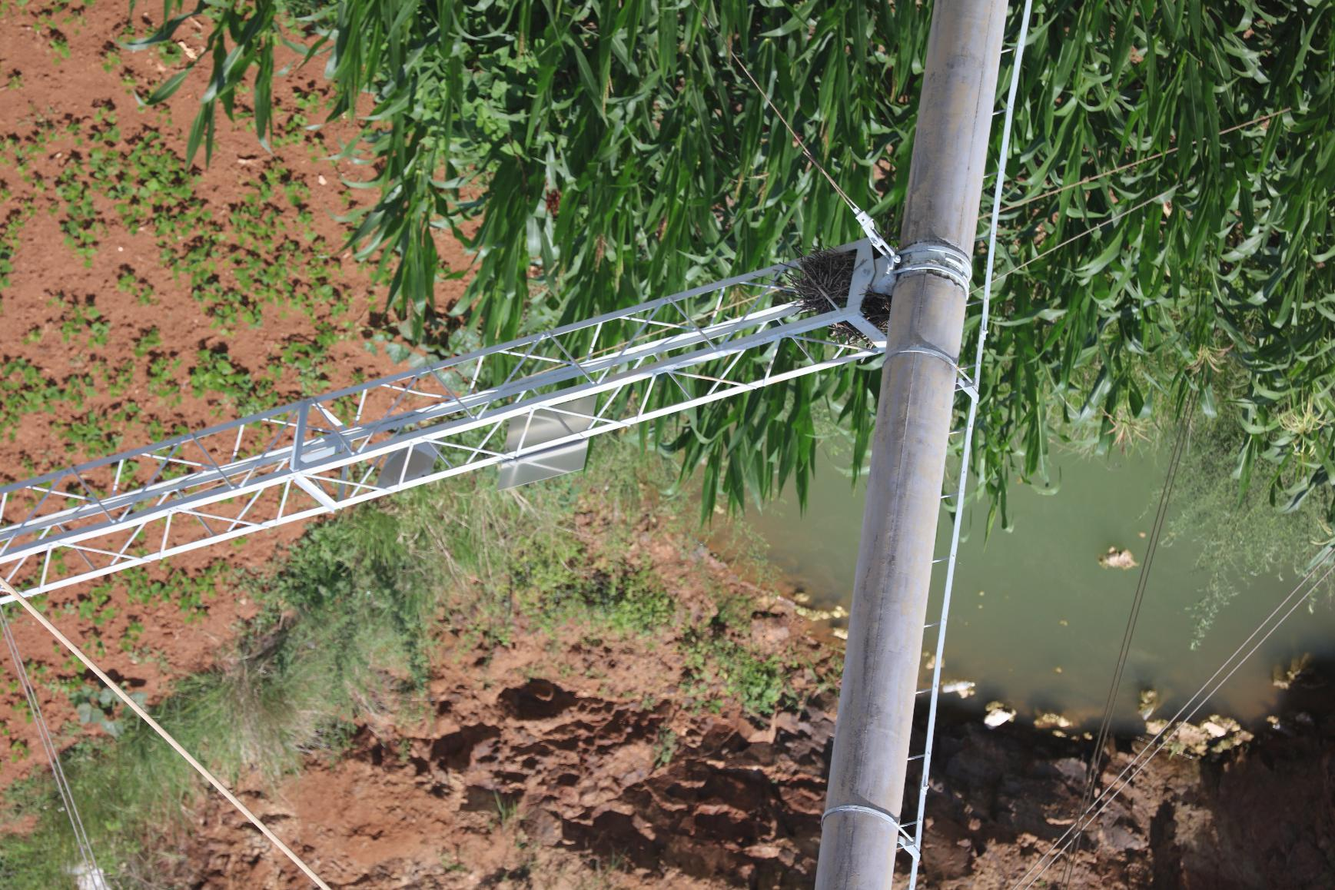nest: (789, 246, 893, 344)
